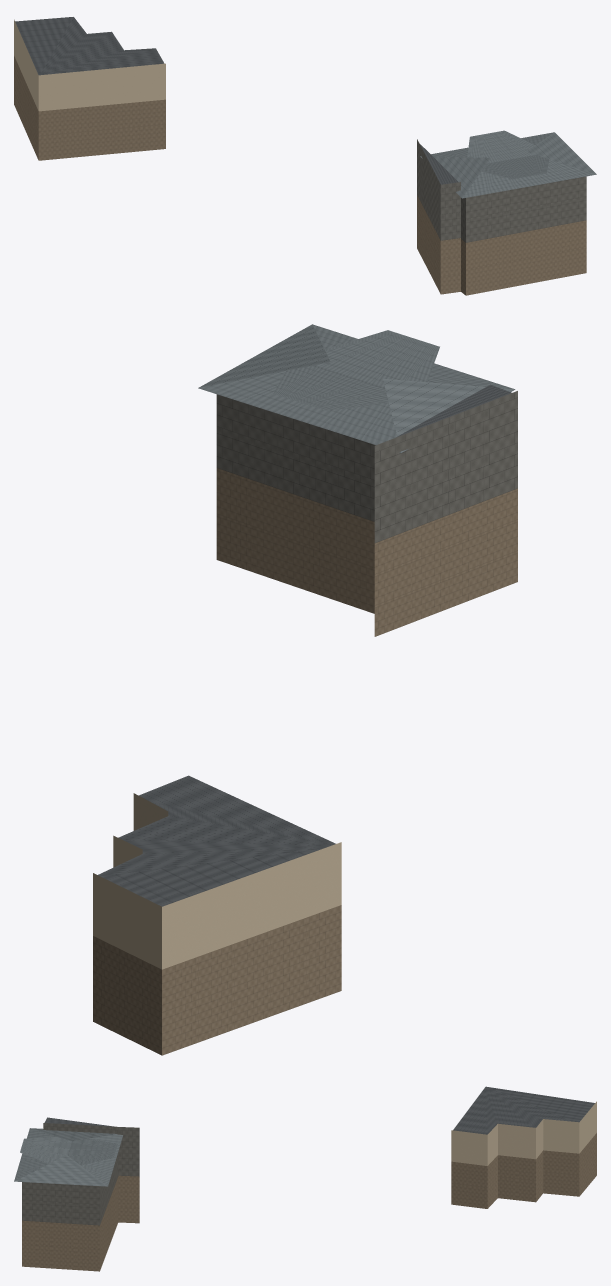
The model's file is bld_c35_-28_450.gltf.
3 views of the same model, one above another, from view 1: azimuth 30°, elevation 25°; view 2: azimuth 150°, elevation 25°; view 3: azimuth 270°, elevation 25° (orthographic). The views are drawn at different scales.
Visible parts, largest first — view 1: bld_c35_-28_450; view 2: bld_c35_-28_450; view 3: bld_c35_-28_450.
Part boxes in pixels (<box>): bld_c35_-28_450: <box>14,17,596,295</box>; bld_c35_-28_450: <box>93,324,517,1055</box>; bld_c35_-28_450: <box>14,1086,596,1271</box>.
Bounding box in the file's own units: 29.62 × 11.8 × 57.34.
7 materials, 7 textured.
